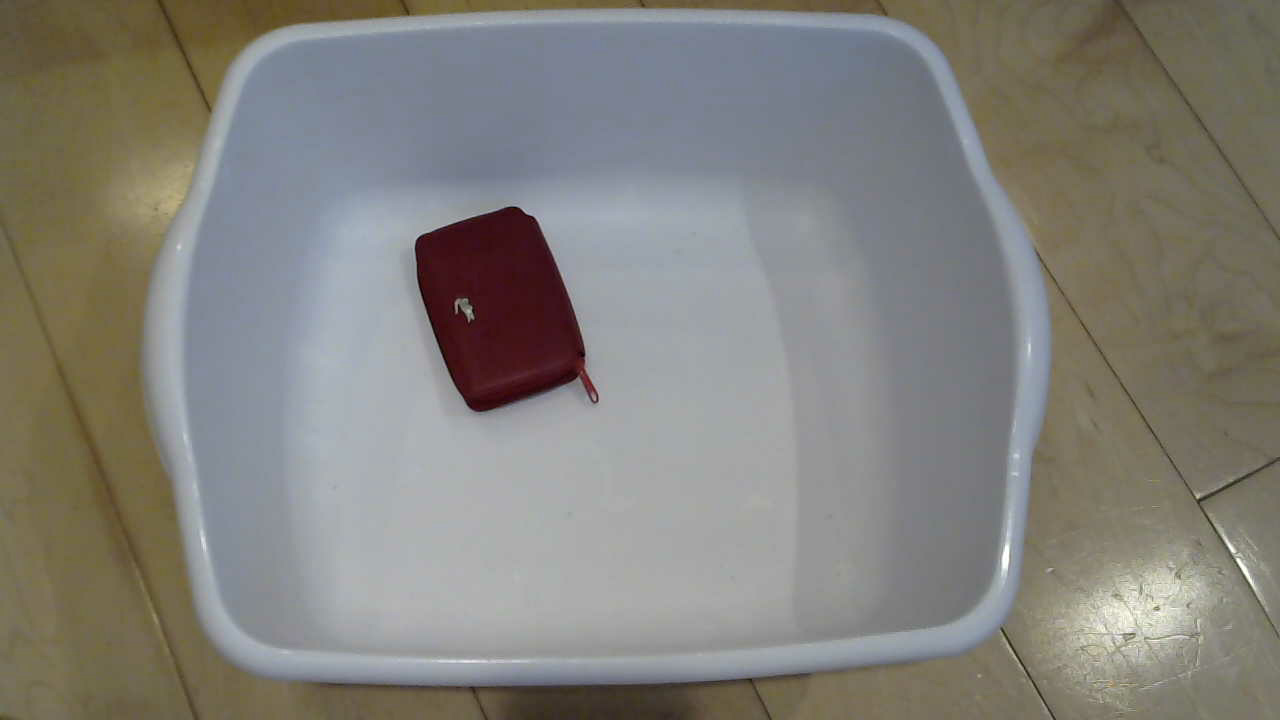wallet: (379, 190, 615, 430)
